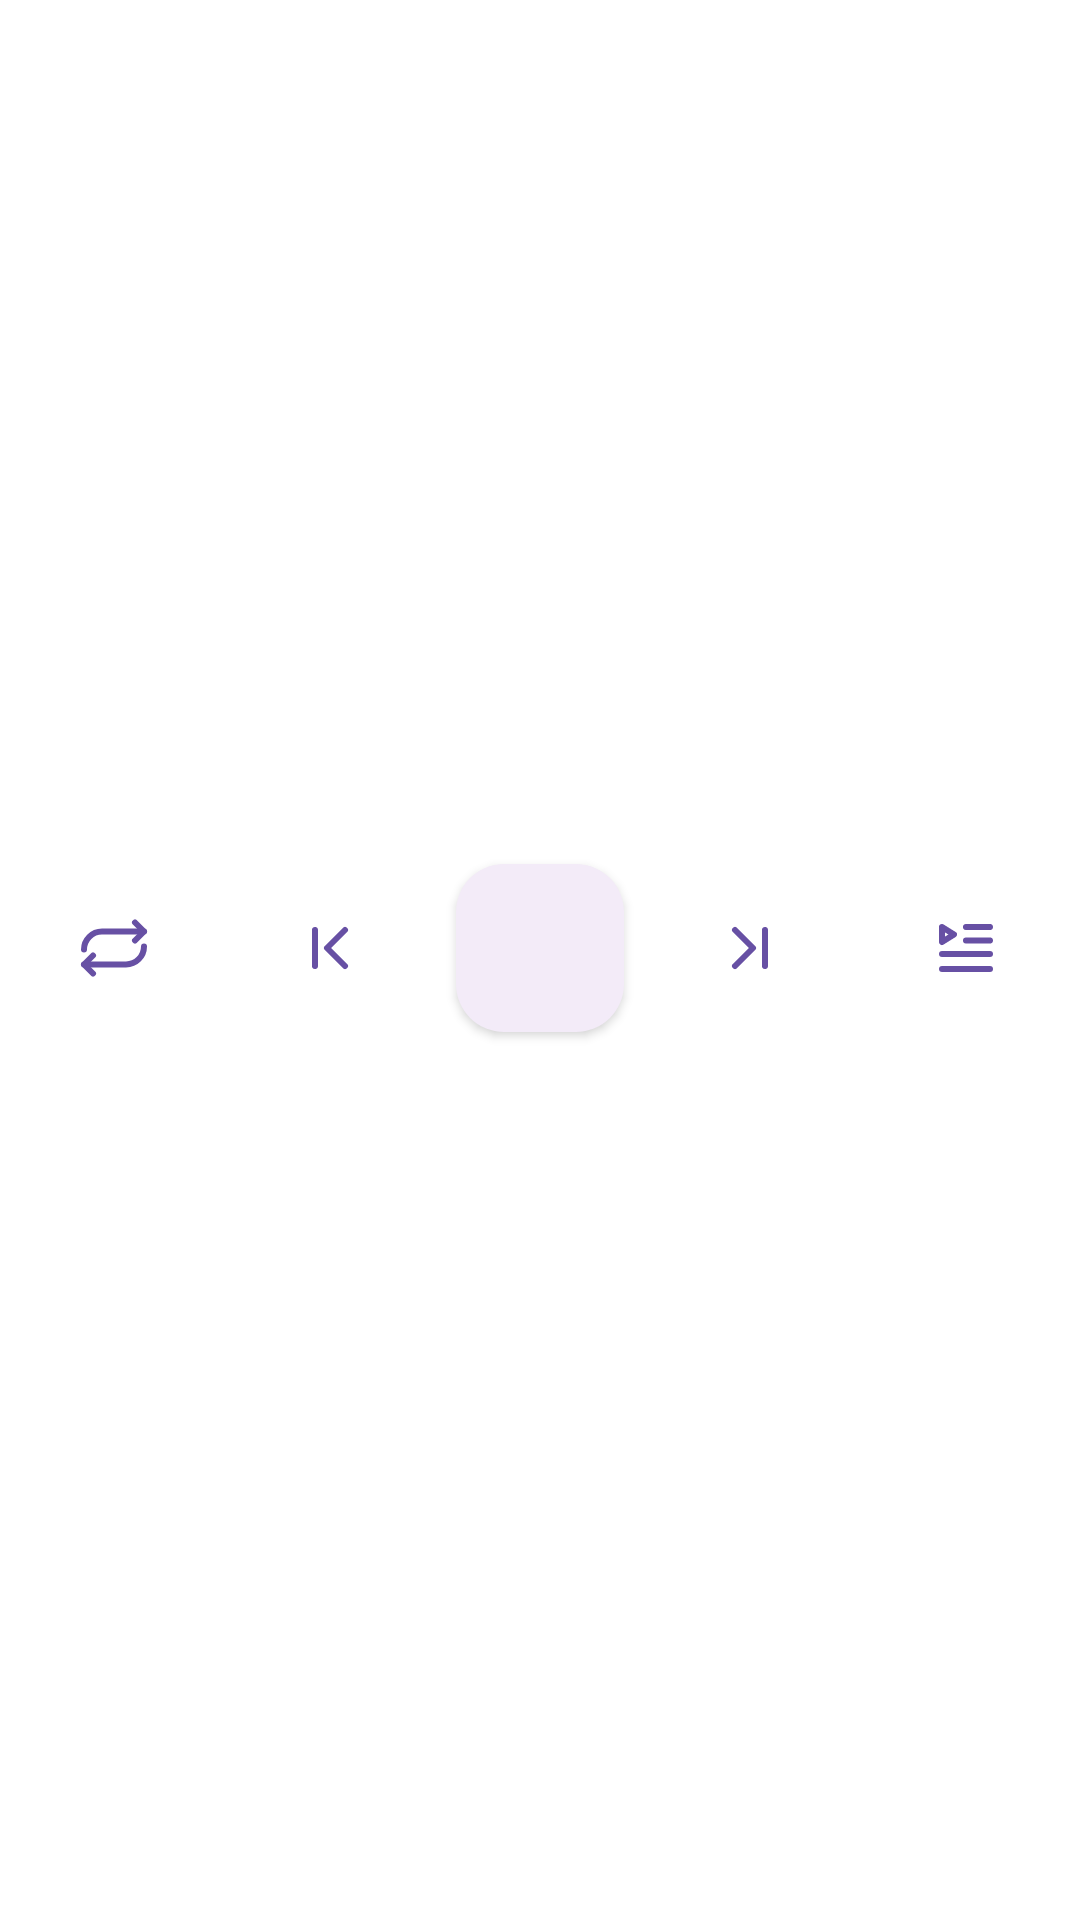

Where icons sit on this 1080 × 1920 app screen, as (x1, y1, x2, y2):
music list: (939, 924, 993, 972)
music next: (732, 927, 768, 969)
music prev: (312, 927, 348, 969)
play cycle: (81, 919, 147, 977)
